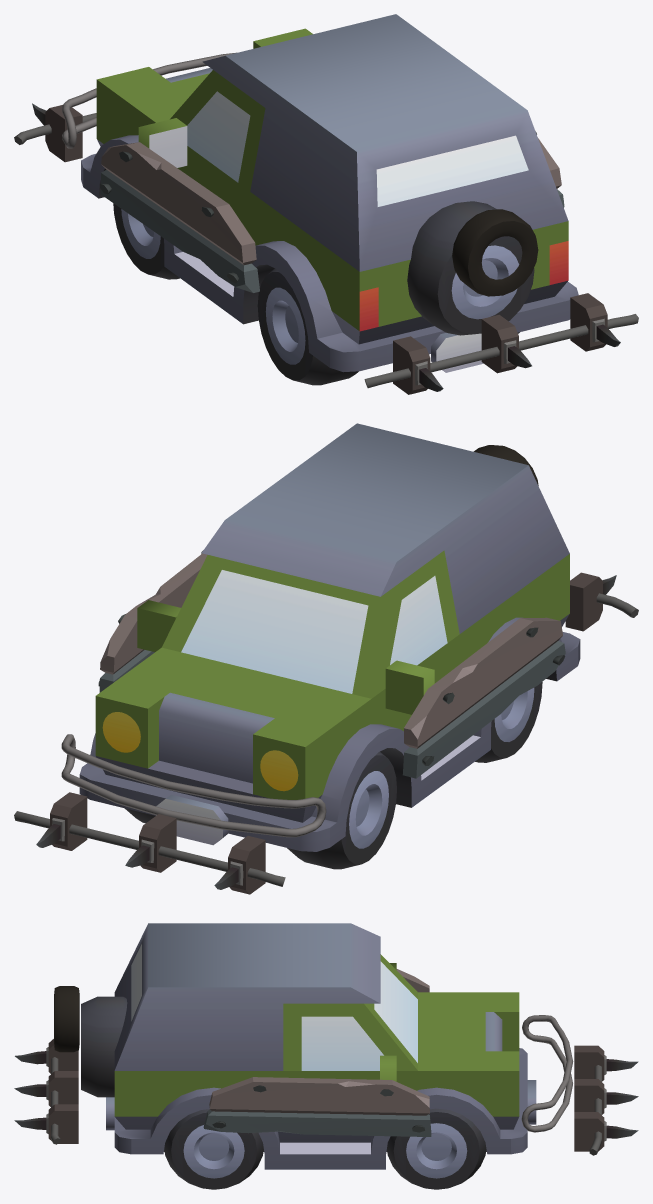
Rendered from car_stride.glb.
3 renders of one model, top to bottom at view 1: azimuth 30°, elevation 25°; view 2: azimuth 150°, elevation 25°; view 3: azimuth 270°, elevation 25°, orthographic. The views are drawn at different scales.
Visible parts, largest first — view 1: body_mesh, armor_1_mesh, armor_2_mesh, armor_3_mesh, wheel_RL_mesh, wheel_FL_mesh; view 2: body_mesh, armor_1_mesh, armor_3_mesh, armor_2_mesh, wheel_FL_mesh, wheel_RL_mesh; view 3: body_mesh, armor_1_mesh, armor_3_mesh, armor_2_mesh, wheel_FR_mesh, wheel_RR_mesh.
Part boxes in pixels (x1=…): body_mesh: x1=81, y1=14, x2=578, y2=372; armor_1_mesh: x1=100, y1=131, x2=564, y2=292; armor_2_mesh: x1=62, y1=52, x2=638, y2=394; armor_3_mesh: x1=14, y1=103, x2=538, y2=296; wheel_RL_mesh: x1=257, y1=268, x2=358, y2=385; wheel_FL_mesh: x1=113, y1=203, x2=179, y2=279; body_mesh: x1=79, y1=423, x2=580, y2=851; armor_1_mesh: x1=98, y1=550, x2=565, y2=778; armor_3_mesh: x1=14, y1=445, x2=538, y2=894; armor_2_mesh: x1=61, y1=572, x2=638, y2=837; wheel_FL_mesh: x1=287, y1=751, x2=396, y2=869; wheel_RL_mesh: x1=475, y1=682, x2=542, y2=762; body_mesh: x1=81, y1=923, x2=536, y2=1169; armor_1_mesh: x1=203, y1=969, x2=431, y2=1136; armor_3_mesh: x1=54, y1=986, x2=638, y2=1155; armor_2_mesh: x1=14, y1=1015, x2=573, y2=1144; wheel_FR_mesh: x1=387, y1=1108, x2=486, y2=1189; wheel_RR_mesh: x1=164, y1=1109, x2=263, y2=1189.
Bounding box in the file's own units: 2.71 × 2.02 × 5.77.
Materials: 3 (2 with a texture image).
